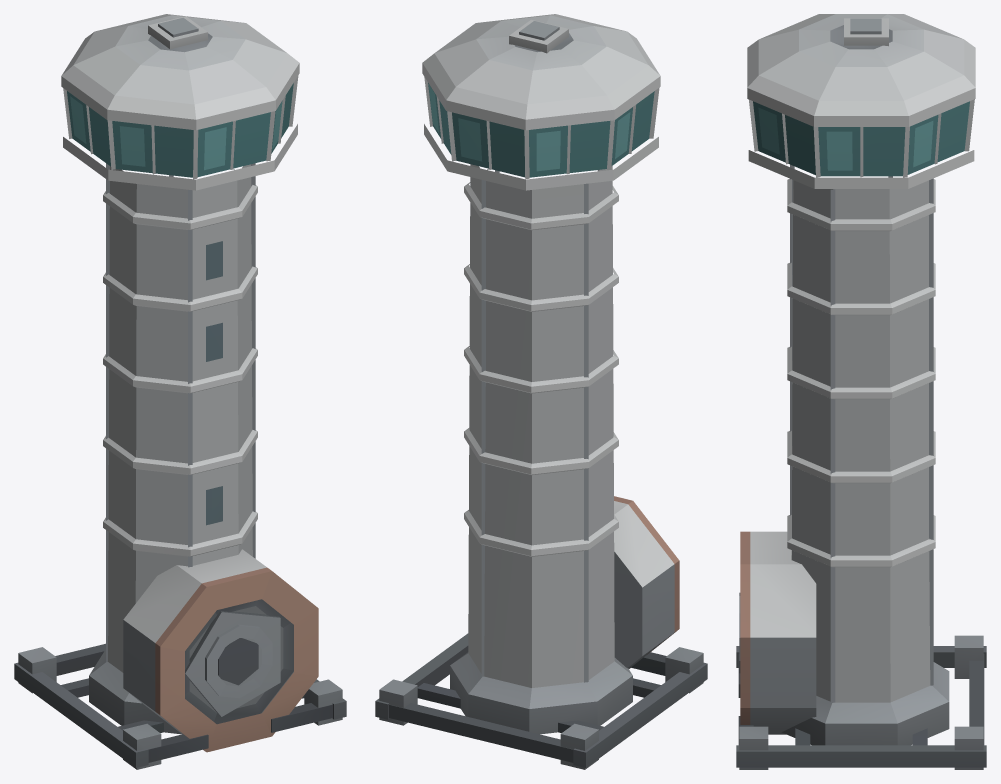
The model's file is otower.lod1.glb.
3 views of the same model, side by side, from view 1: azimuth 30°, elevation 25°; view 2: azimuth 150°, elevation 25°; view 3: azimuth 270°, elevation 25° (orthographic). The views are drawn at different scales.
Size of the model in its own units: 5 by 15.26 by 5.
